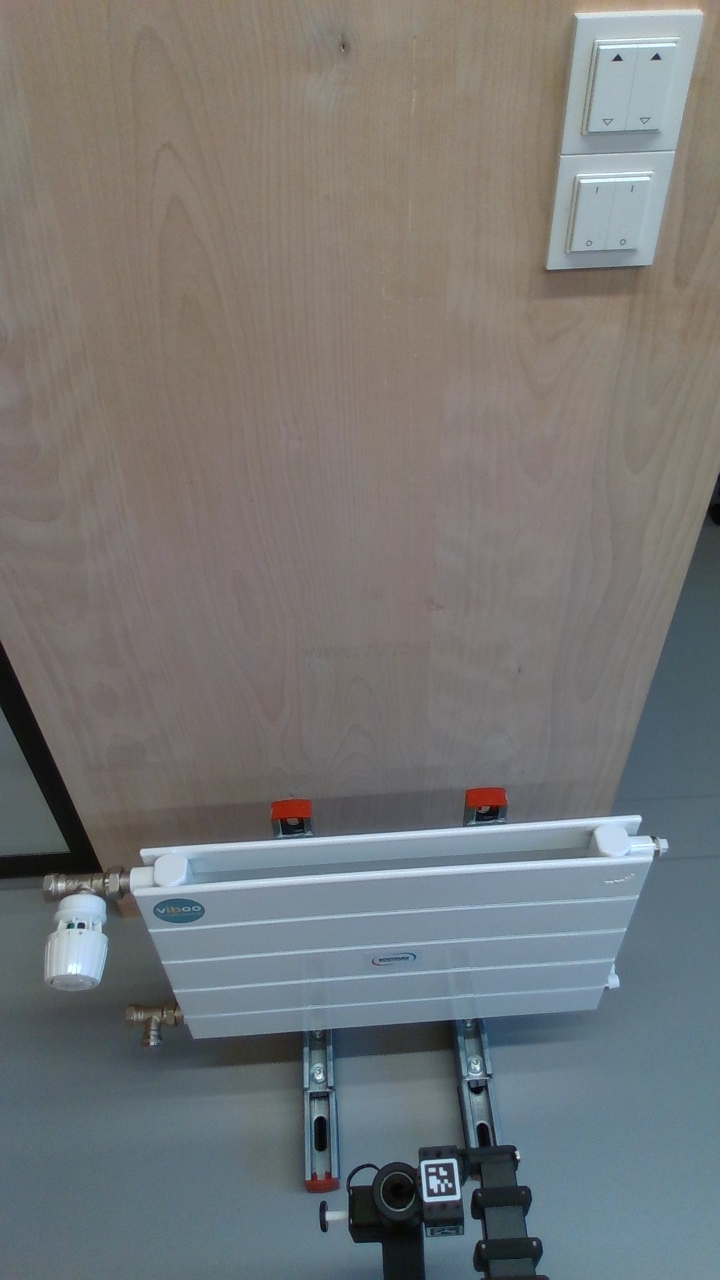Knob_Radiator: (35, 881, 115, 1003)
Light_Switch: (578, 21, 680, 141), (564, 158, 658, 270)
Radiator: (123, 817, 632, 1040)
